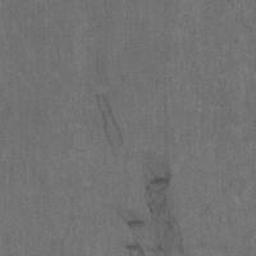Water spot: (113, 150, 184, 255), (96, 92, 123, 152), (96, 49, 104, 73)
